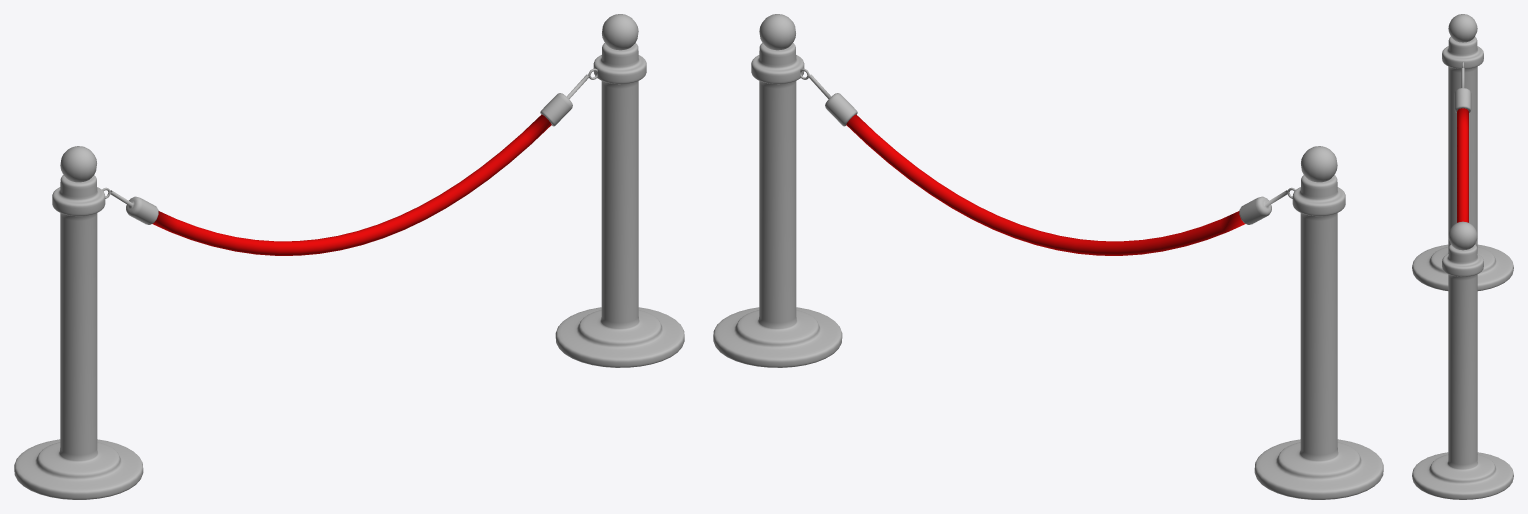
Rendered from Portail beau.fbx.
The picture shows the model from 3 angles, left to right: view 1: azimuth 30°, elevation 25°; view 2: azimuth 150°, elevation 25°; view 3: azimuth 270°, elevation 25°; orthographic projection. The views are drawn at different scales.
Visible parts, largest first — view 1: Cylinder.001; view 2: Cylinder.001; view 3: Cylinder.001.
Part boxes in pixels (<box>): Cylinder.001: <box>14,14,684,499</box>; Cylinder.001: <box>713,14,1383,499</box>; Cylinder.001: <box>1412,14,1513,499</box>.
Bounding box in the file's own units: 519 × 247 × 89.01.
